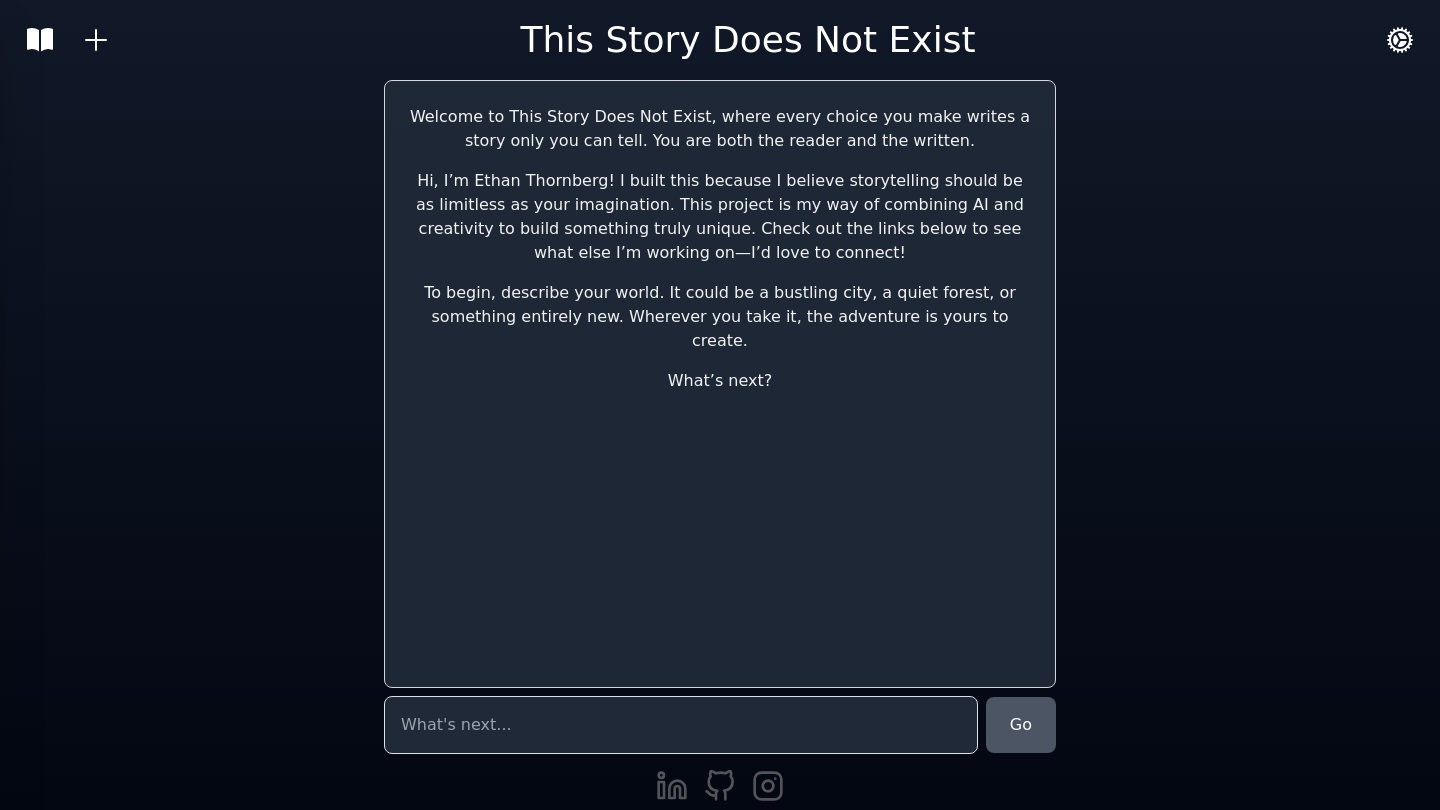
Test case: App Integration Tests › disables input and button when loading
Type "Test message" into the field with placeholder "What's next..." at (681, 725), box [384,696,978,754]
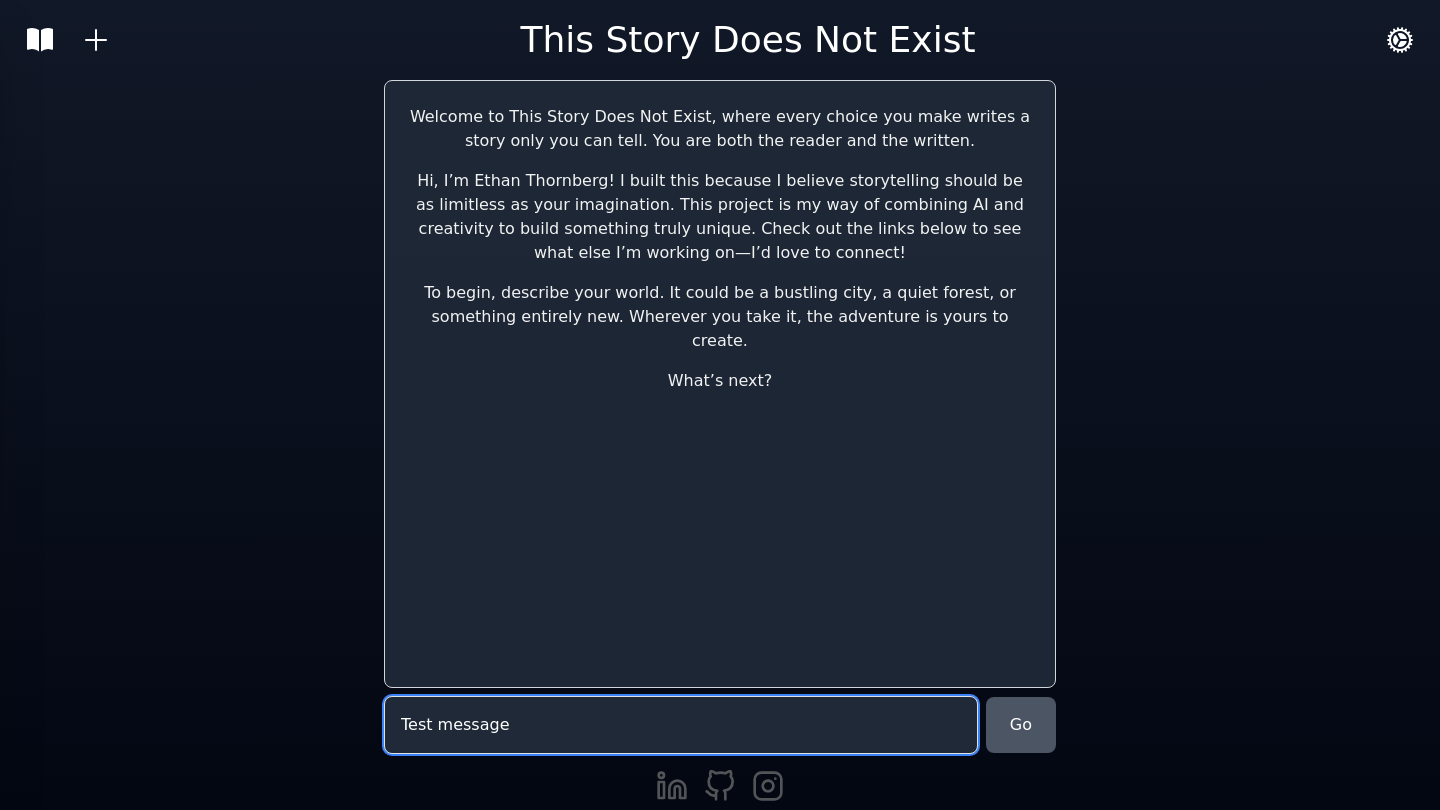
Click the button "Go" at (1021, 725), box [986,697,1056,753]
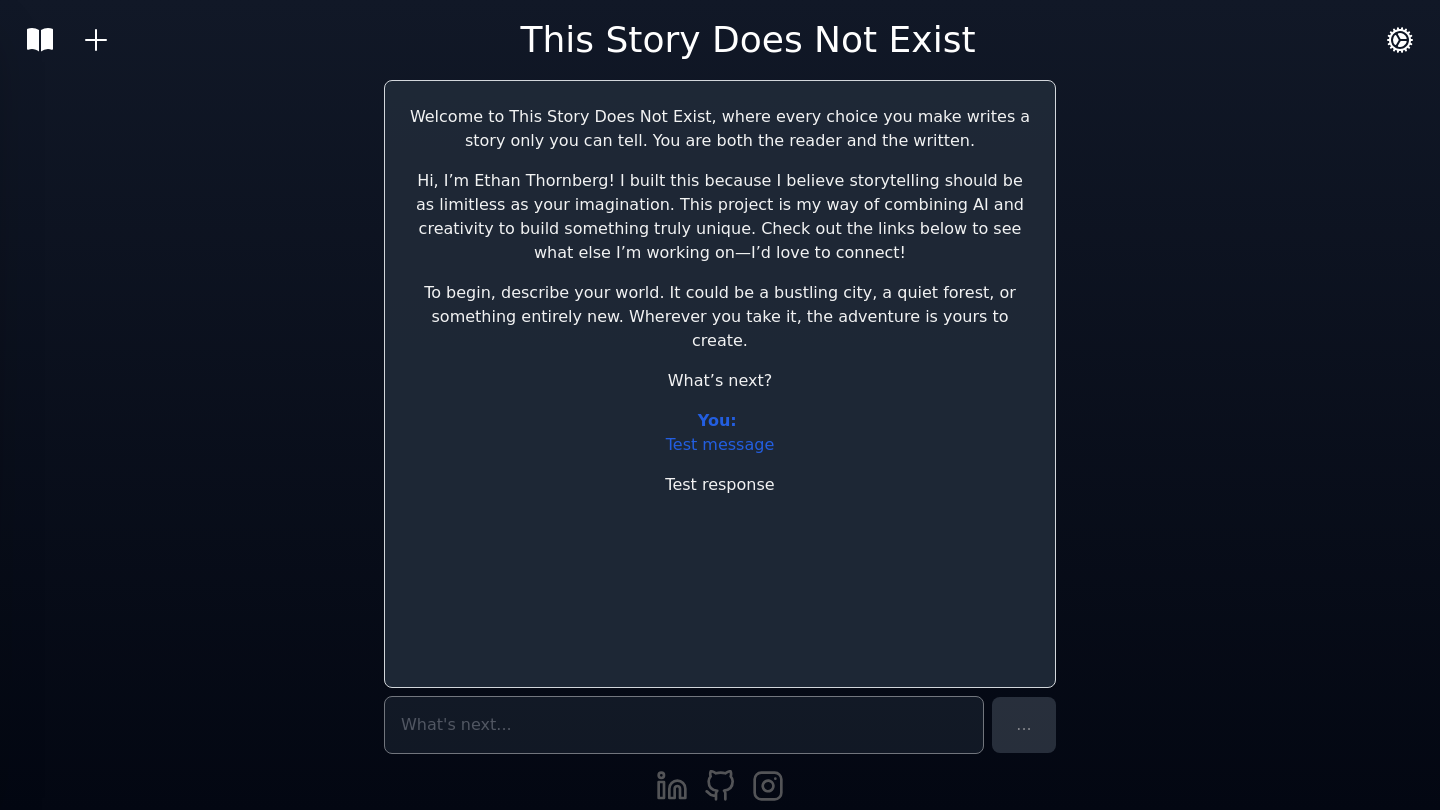
Result: the field with placeholder "What's next..." is disabled at [384,696,984,754]
Result: the button named "Go" is disabled at [992,697,1056,753]
